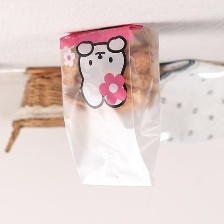snack: (52, 18, 169, 195)
